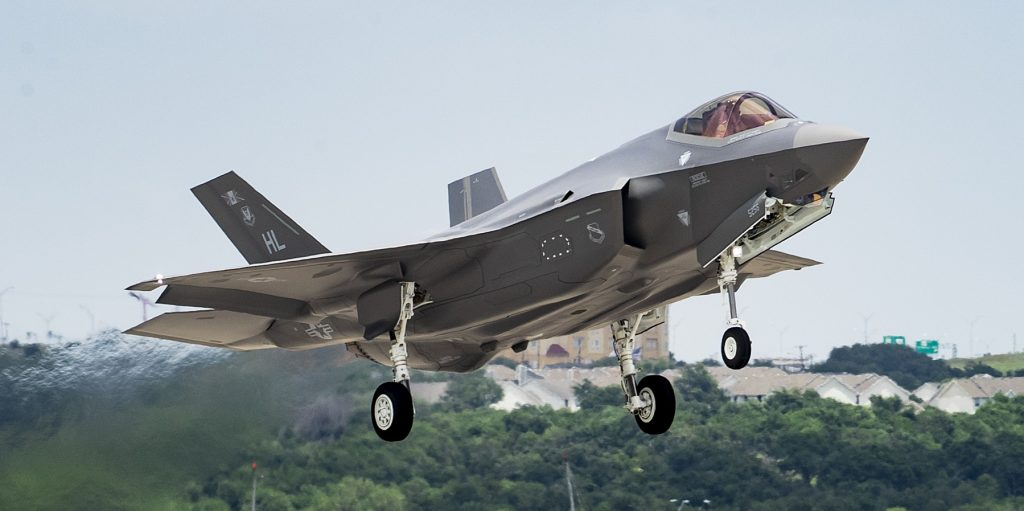F-35 Lightning: (92, 41, 893, 459)
